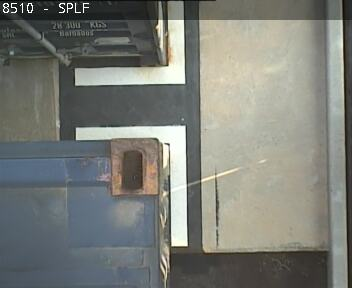groundmarker_1: (75, 2, 189, 247)
